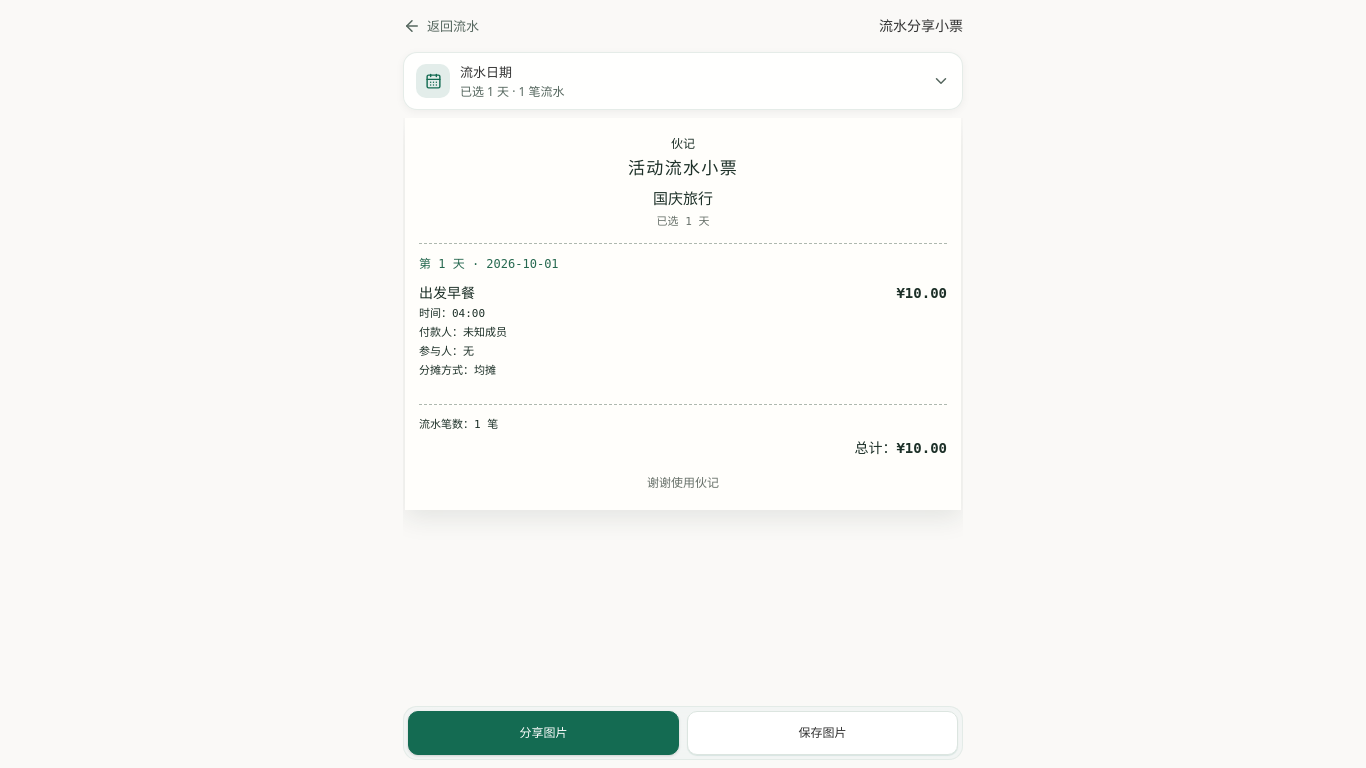
Scenario: ReceiptSharePage › 活动前流水在日期选择器和小票预览中使用同一标签
This screenshot has width=1366, height=768.
Click the button "流水日期 已选 1 天 · 1 笔流水" at (433, 81), box 403,52 -> 963,110
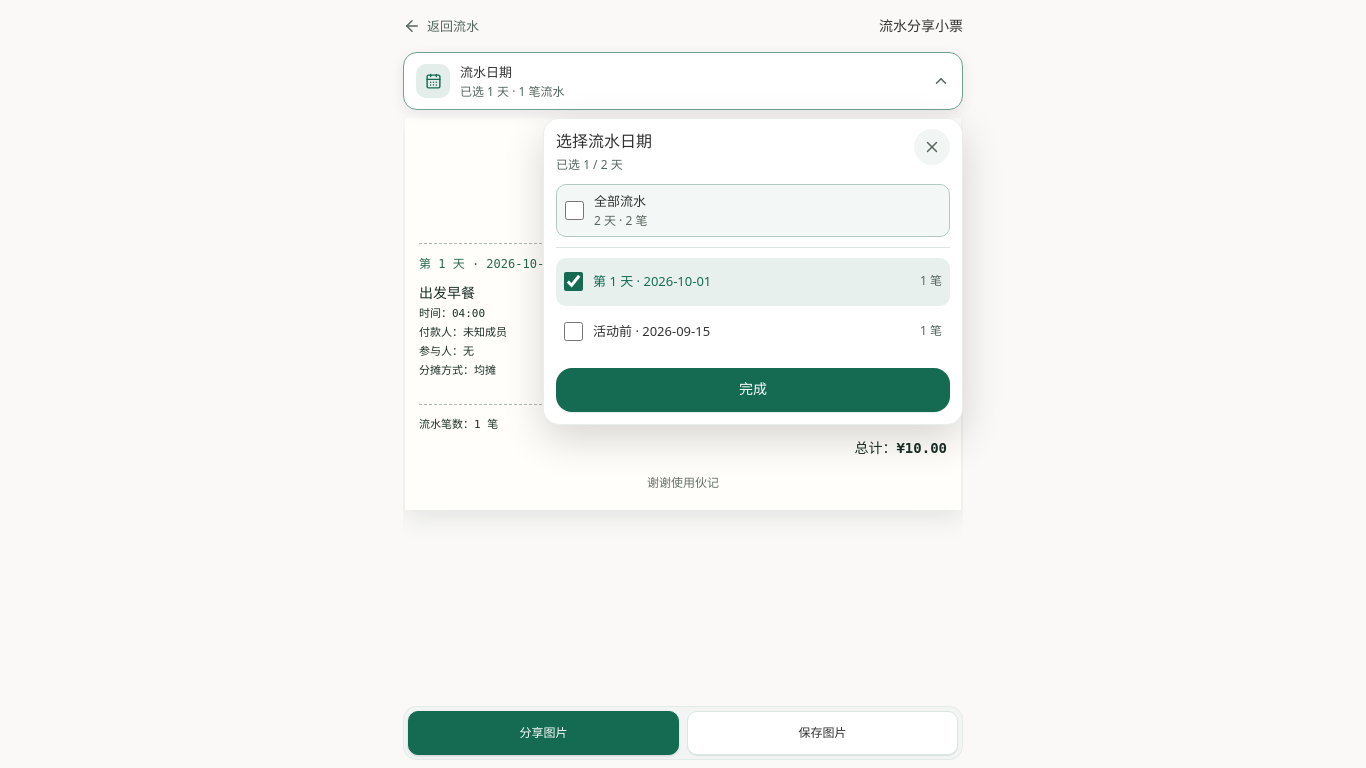
Now the text "活动前 · 2026-09-15" is shown, box 593,322 -> 710,340
Now the text "第 1 天 · 2026-10-01" is shown 2 times, box 593,272 -> 711,290; 419,257 -> 559,271
Click the checkbox labelled "活动前 · 2026-09-15 1 笔" at (574, 332), box 564,322 -> 583,341
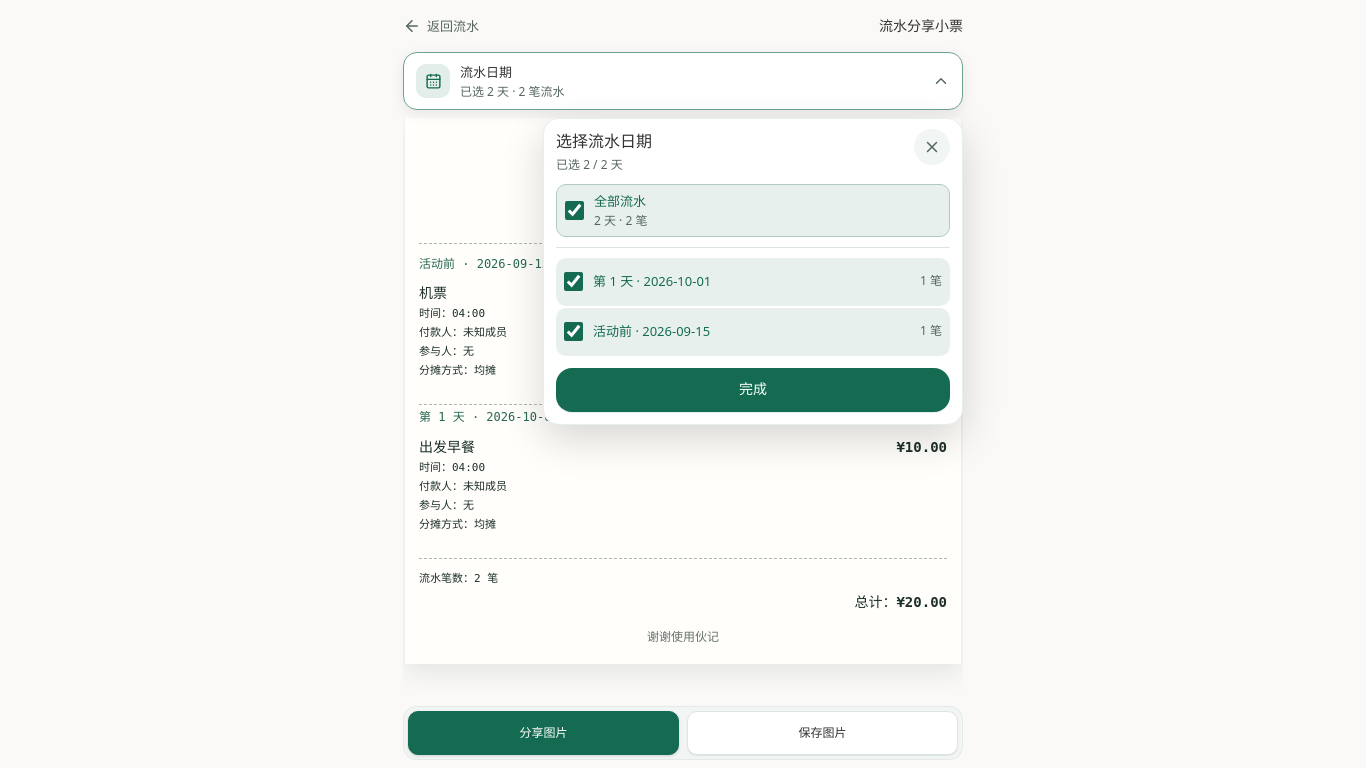
Now the text "活动前 · 2026-09-15" is shown 2 times, box 593,322 -> 710,340; 419,257 -> 549,271
Now the text "机票" is shown, box 419,283 -> 447,304
